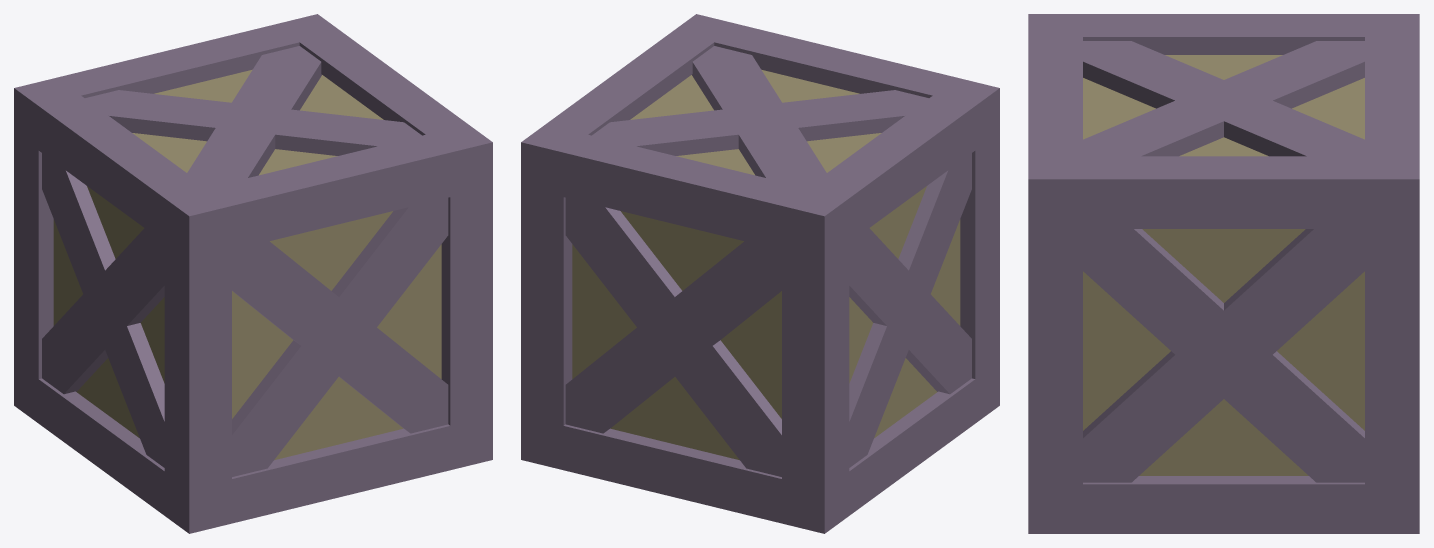
The model's file is quaternius-cube-world-block-crate.glb.
3 renders of one model, left to right at view 1: azimuth 30°, elevation 25°; view 2: azimuth 150°, elevation 25°; view 3: azimuth 270°, elevation 25°, orthographic. The views are drawn at different scales.
Visible parts, largest first — view 1: Block_Crate; view 2: Block_Crate; view 3: Block_Crate.
Part boxes in pixels (x1,y1,x2,y2): Block_Crate: (14,14,492,533); Block_Crate: (521,14,999,533); Block_Crate: (1028,14,1419,533).
Size of the model in its own units: 2 by 2 by 2.
Materials: 1 (1 with a texture image).
